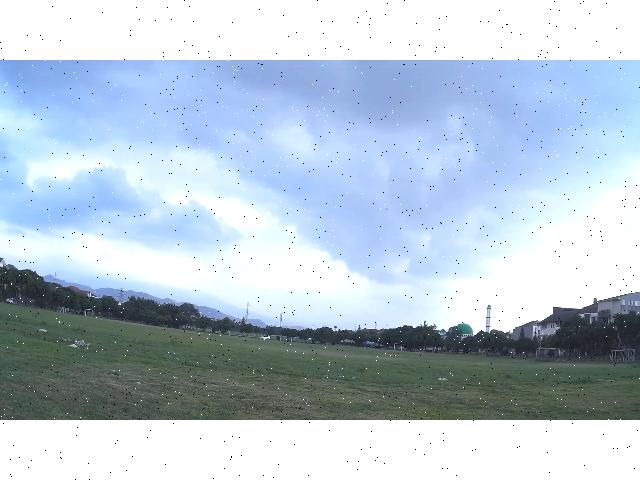Anti-Drone: (378, 202, 400, 217)
